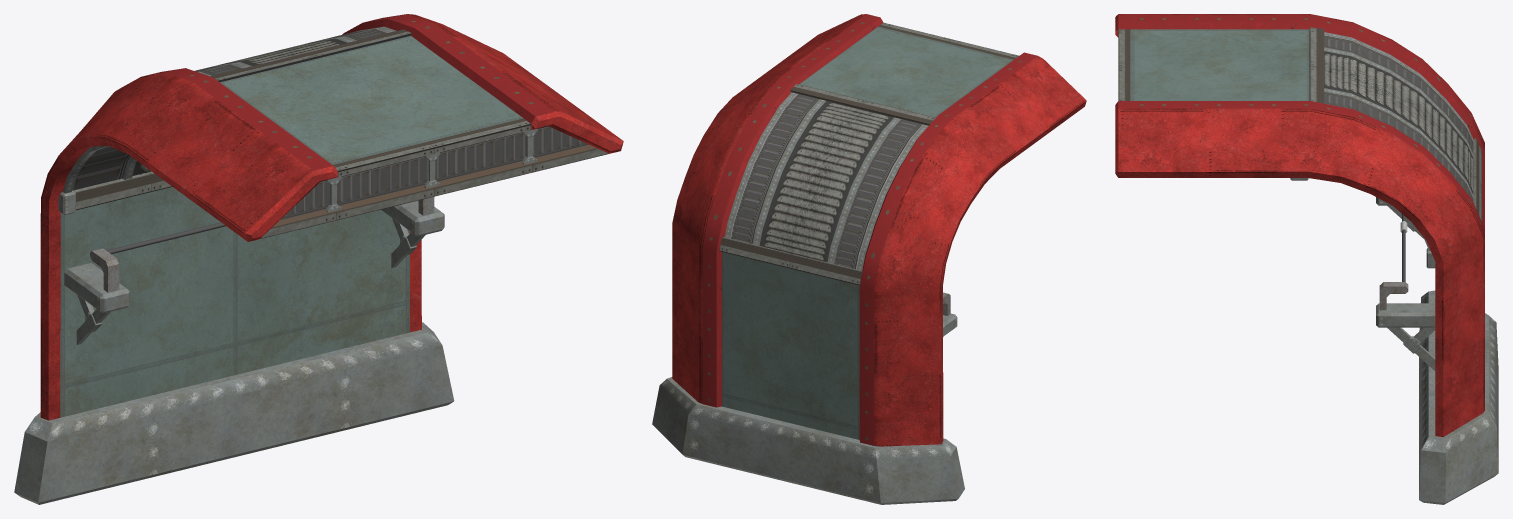
File: Ob_RoadWall_RC.fbx
3 renders of one model, left to right at view 1: azimuth 30°, elevation 25°; view 2: azimuth 150°, elevation 25°; view 3: azimuth 270°, elevation 25°, orthographic. The views are drawn at different scales.
Visible parts, largest first — view 1: Ob_RoadWall_RC; view 2: Ob_RoadWall_RC; view 3: Ob_RoadWall_RC.
Part boxes in pixels (x1,y1,x2,y2): Ob_RoadWall_RC: (14,14,623,504); Ob_RoadWall_RC: (652,14,1086,504); Ob_RoadWall_RC: (1115,14,1498,504).
Bounding box in the file's own units: 1146 × 1155 × 1110.
